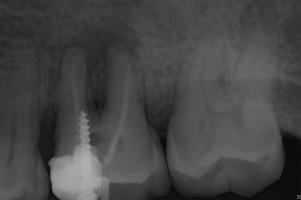Dental Caries: (54, 17, 142, 116)
